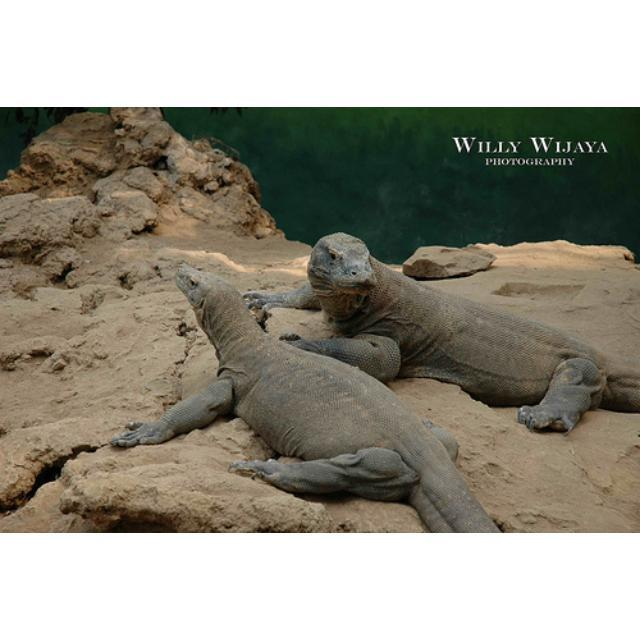KomodoDragon: (108, 256, 503, 531), (243, 232, 637, 436)
